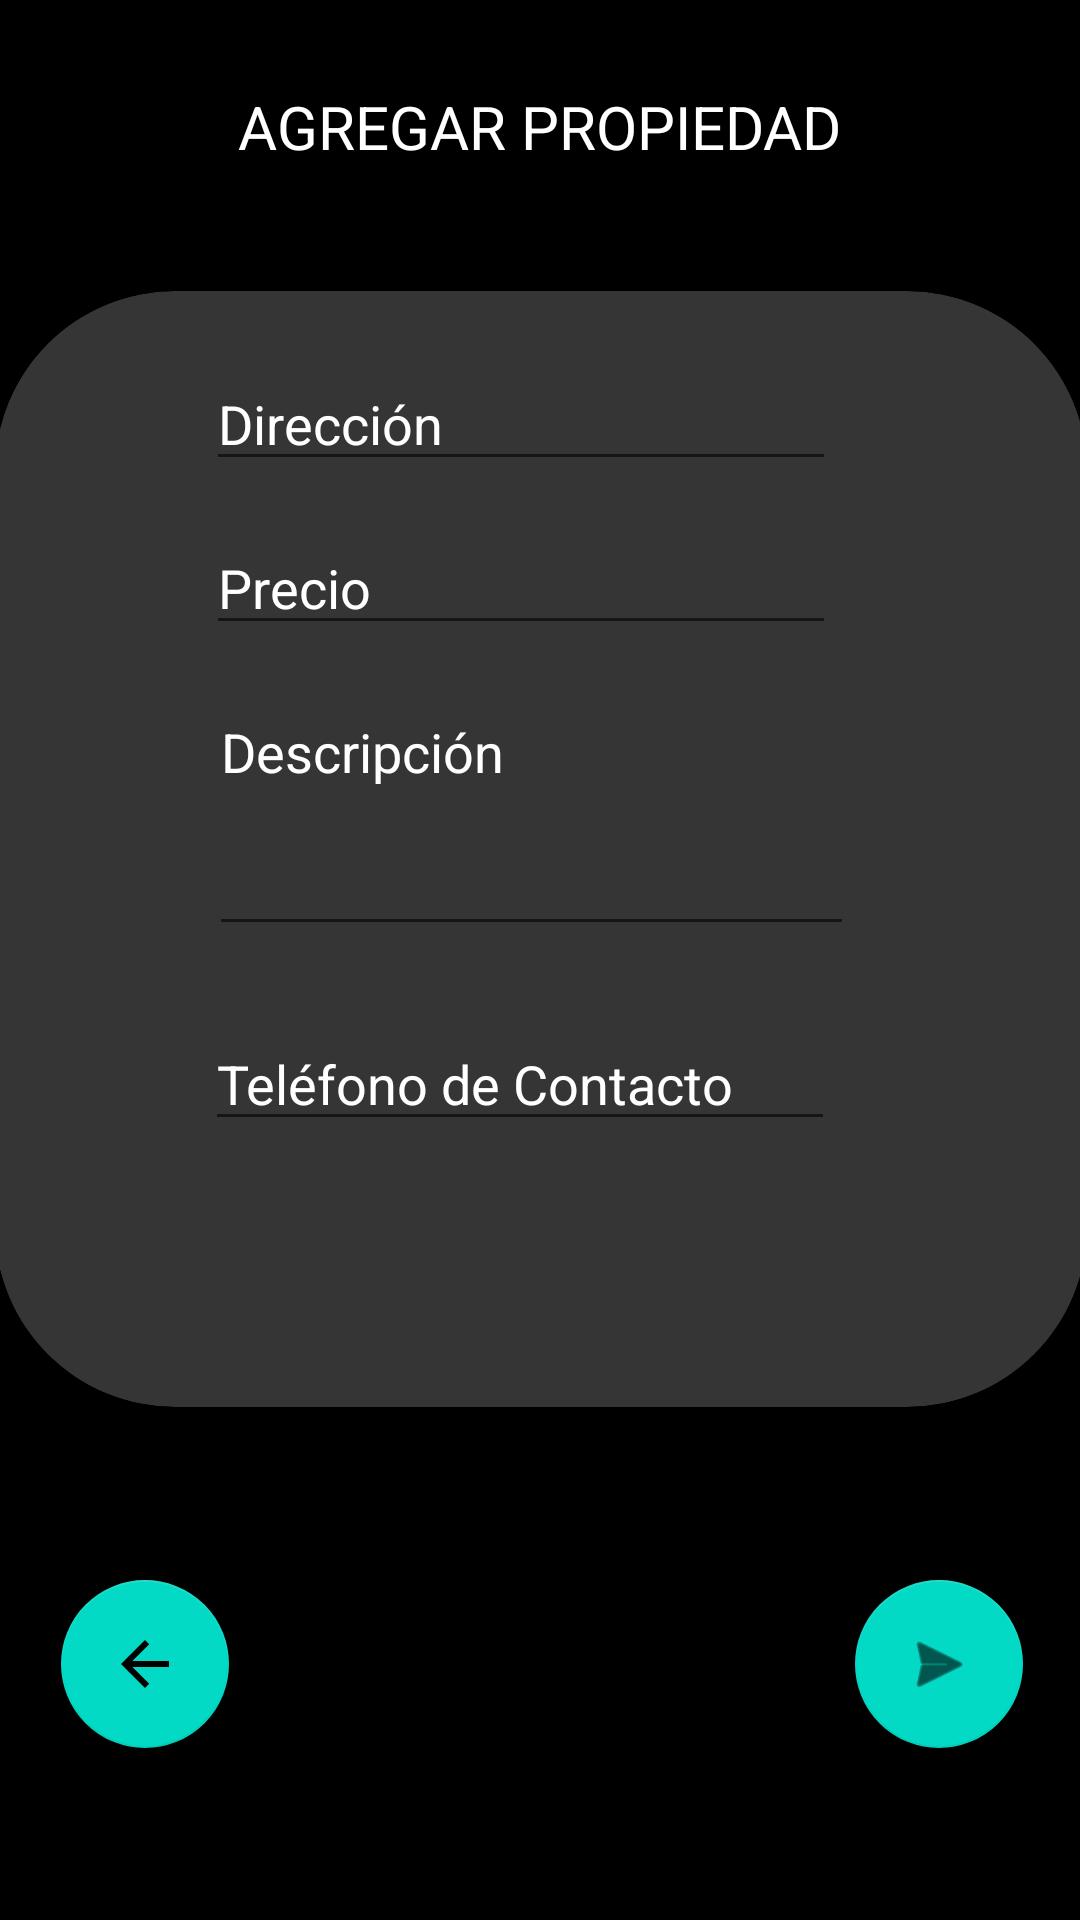

Icons on this 1080x1920 Android screen, each with its box as (x1, y1, x2, y2):
send: (855, 1580, 1023, 1748)
